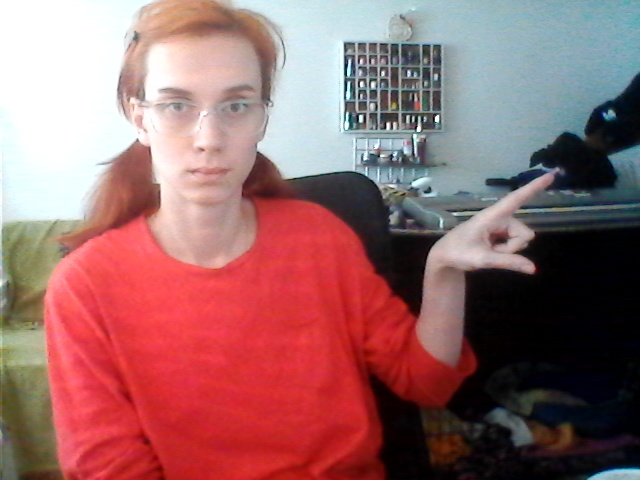on: (385, 166, 573, 410)
